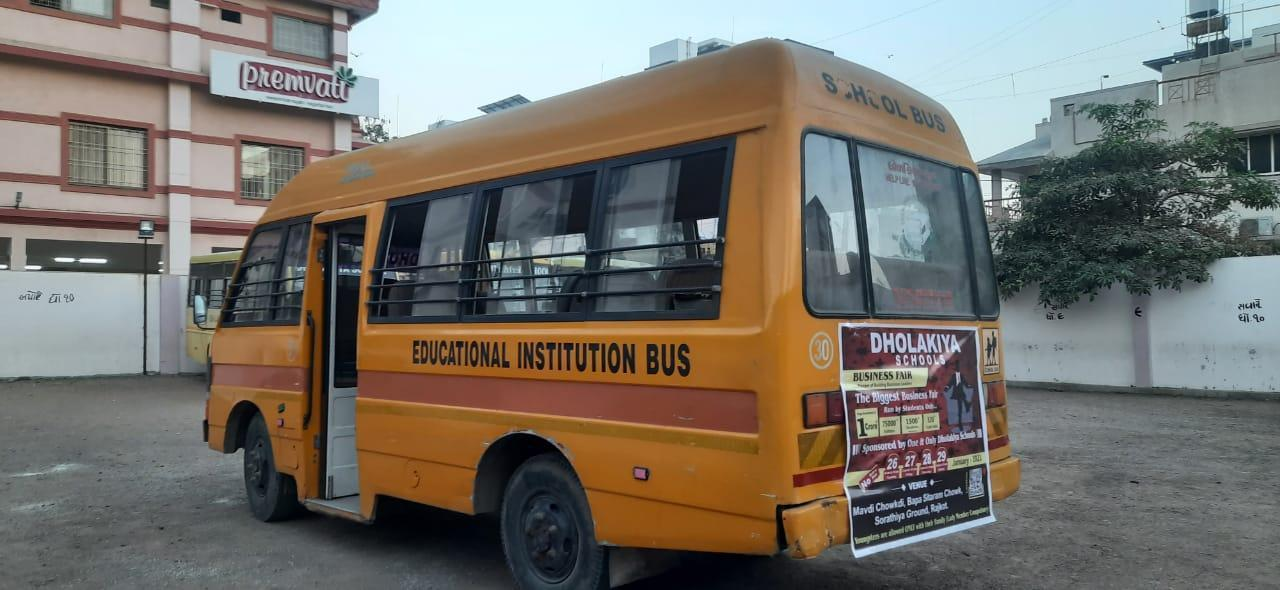Bus: (194, 24, 1067, 584)
